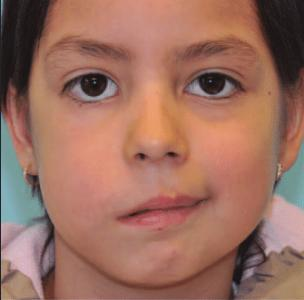strokeEyeWeak: (48, 31, 269, 118)
strokeMouthWeak: (108, 186, 215, 233)
